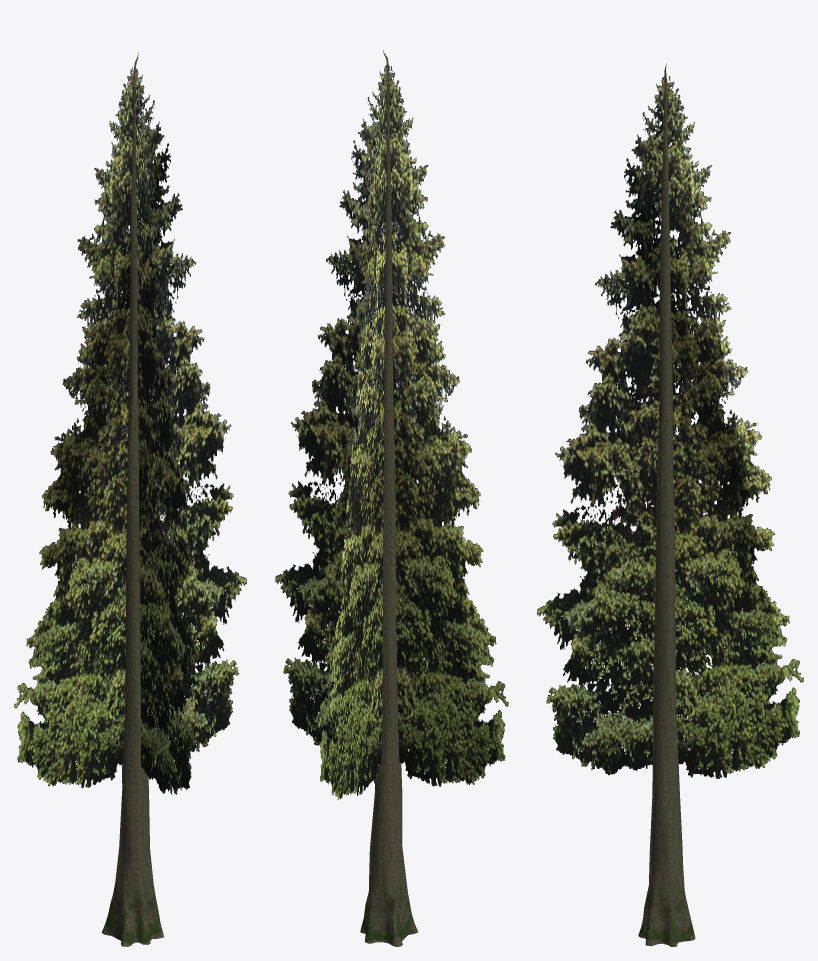
File: FarFir_Tree.fbx
3 renders of one model, left to right at view 1: azimuth 30°, elevation 25°; view 2: azimuth 150°, elevation 25°; view 3: azimuth 270°, elevation 25°, orthographic.
Visible parts, largest first — view 1: Model, Fir_Tree1; view 2: Model, Fir_Tree1; view 3: Model, Fir_Tree1.
Part boxes in pixels (x1=…): Model: x1=14, y1=65, x2=246, y2=794; Fir_Tree1: x1=101, y1=52, x2=163, y2=946; Model: x1=275, y1=65, x2=508, y2=799; Fir_Tree1: x1=360, y1=50, x2=417, y2=946; Model: x1=537, y1=73, x2=803, y2=778; Fir_Tree1: x1=638, y1=63, x2=695, y2=946.
Size of the model in its own units: 214 by 774 by 214.
3 materials, 3 textured.
